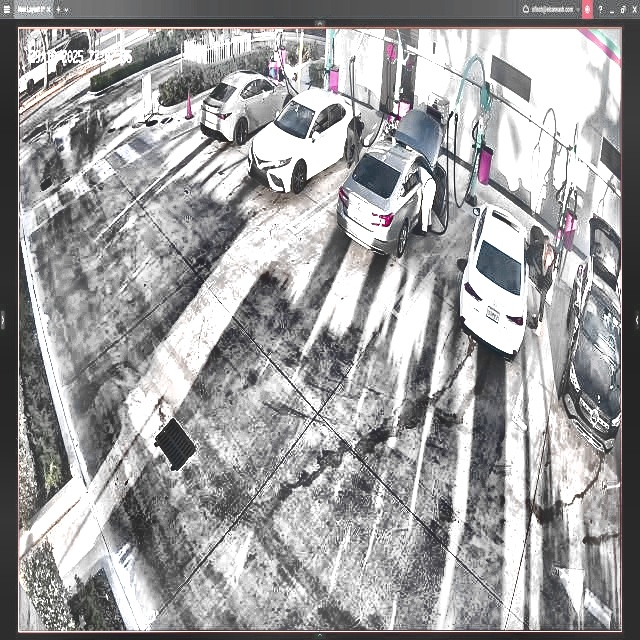Car: (337, 108, 440, 256), (251, 91, 363, 192), (463, 204, 529, 357), (201, 70, 296, 141)
